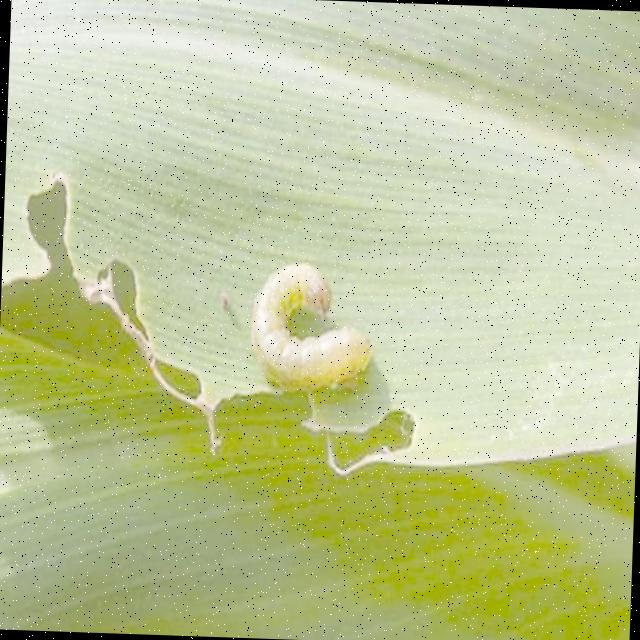worm: (249, 260, 377, 396)
